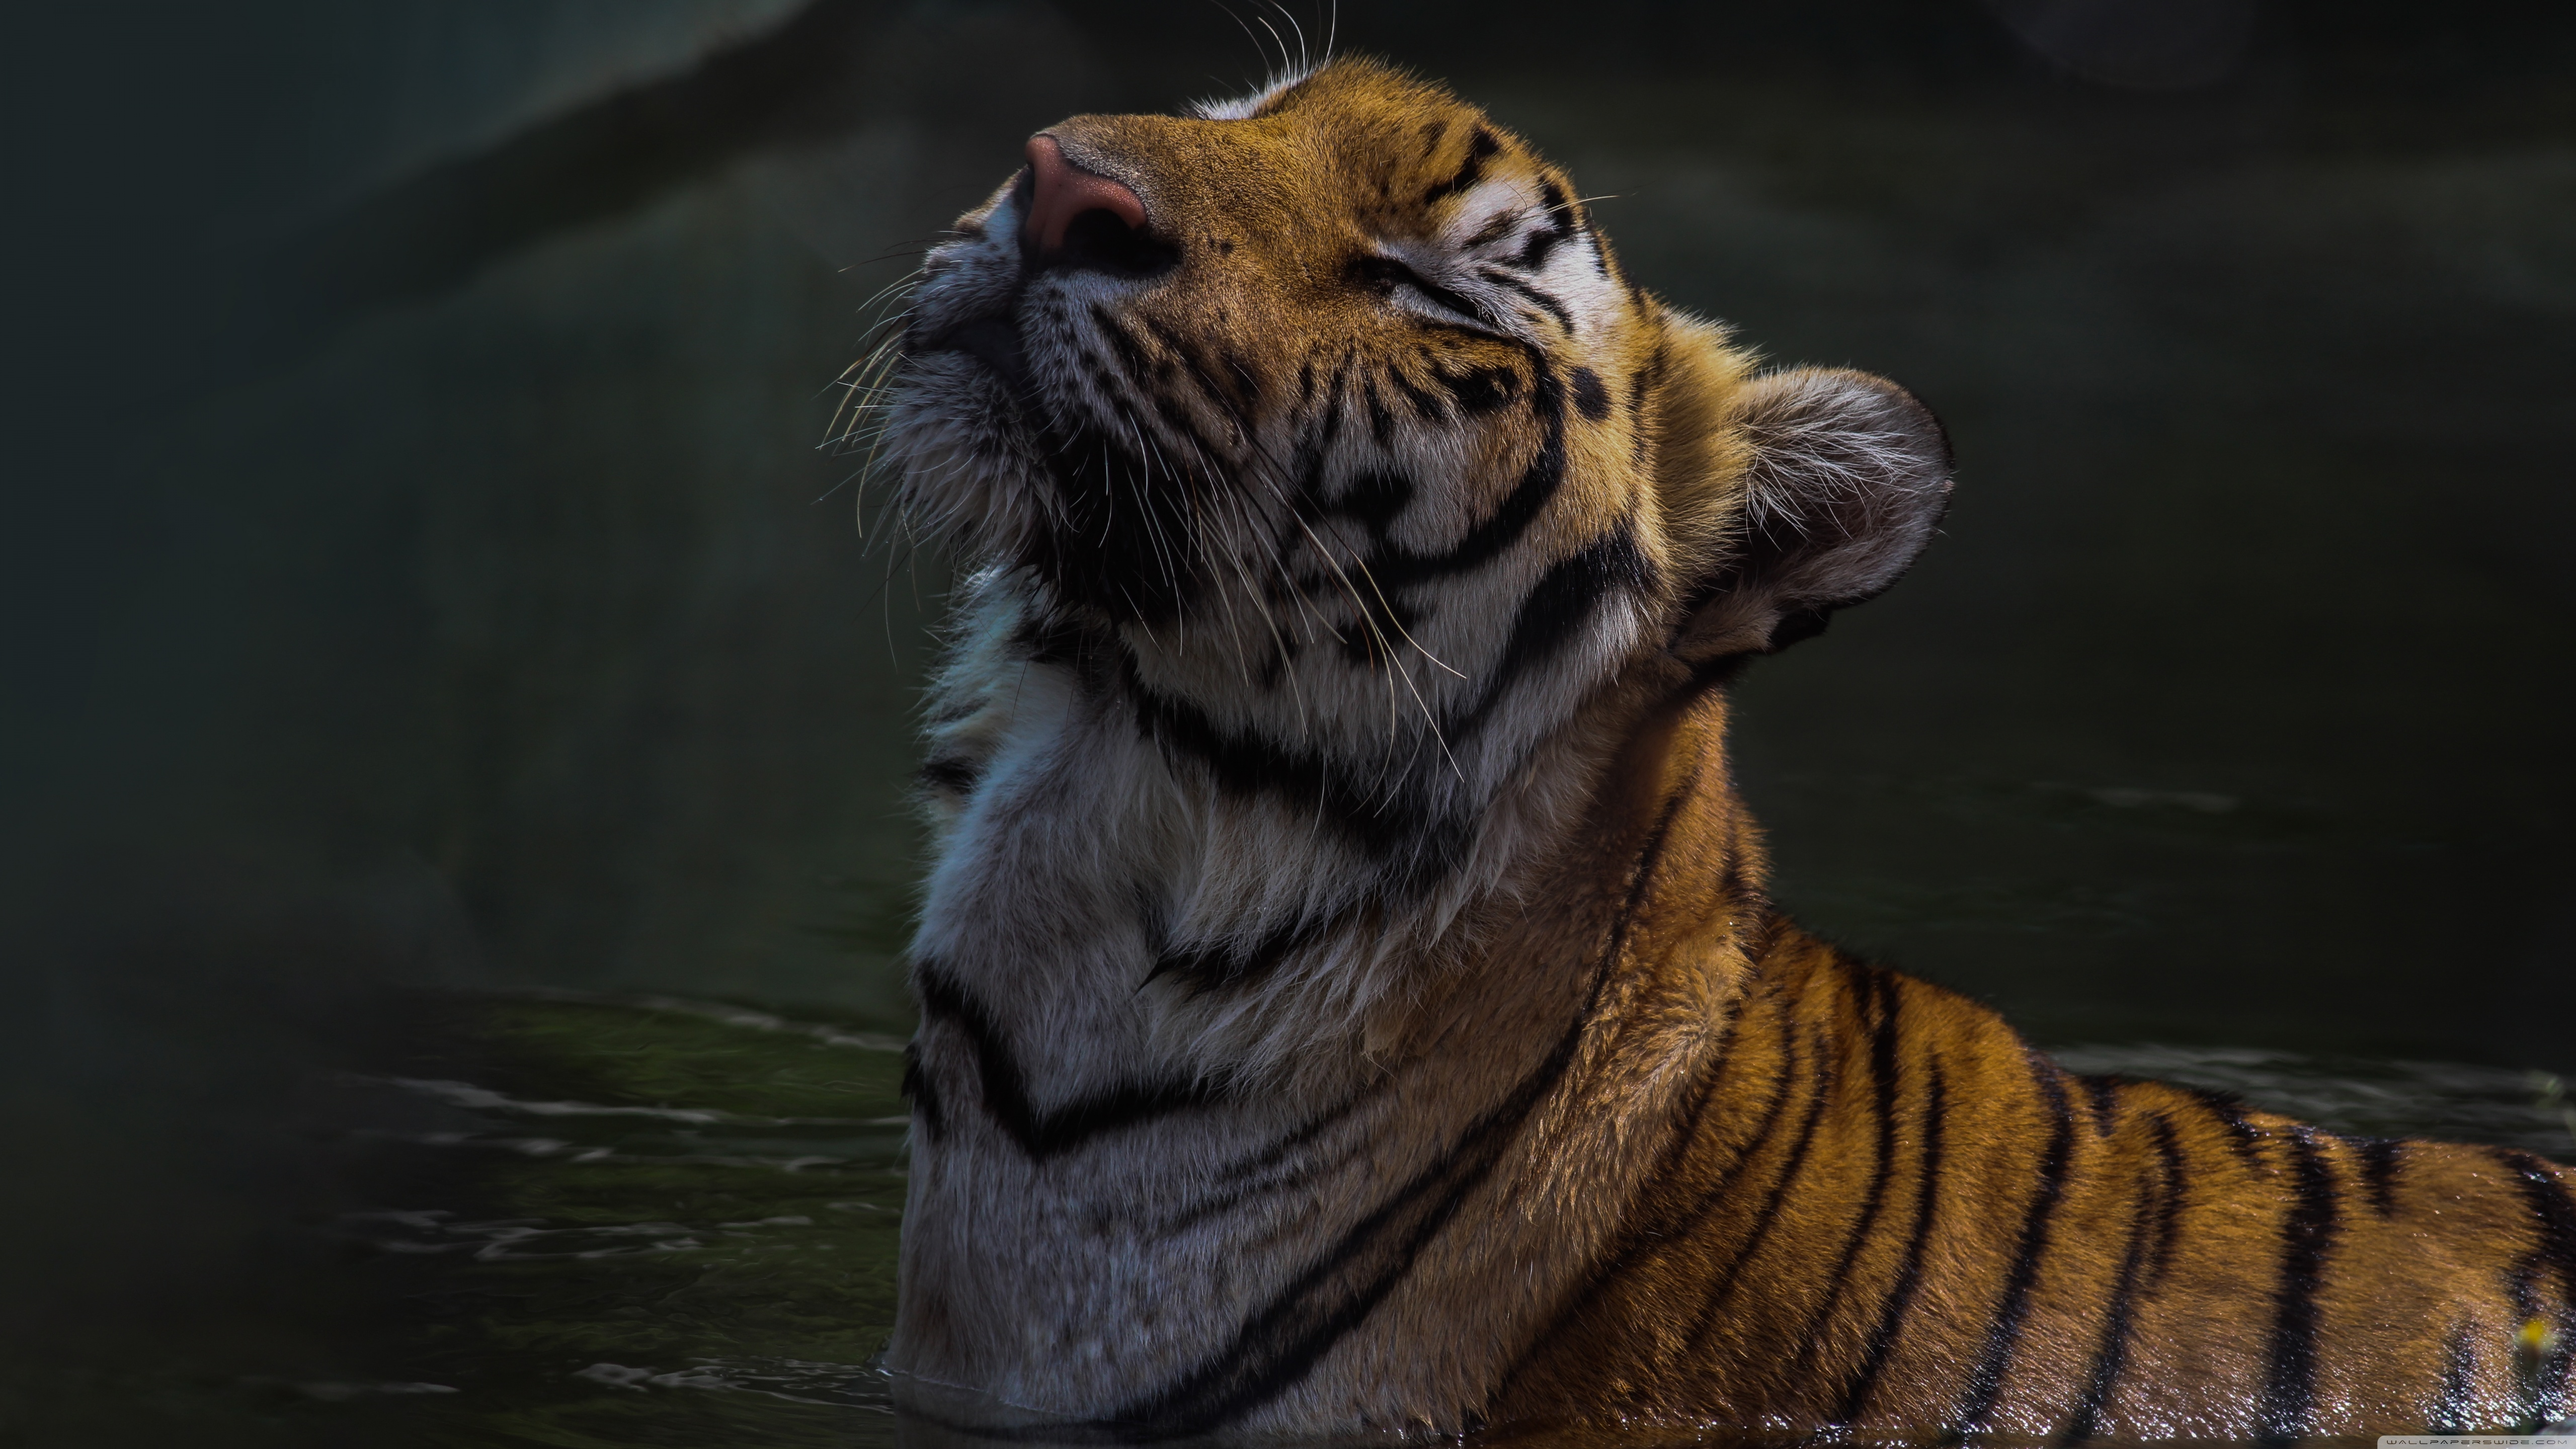tiger: (717, 71, 2541, 1422)
